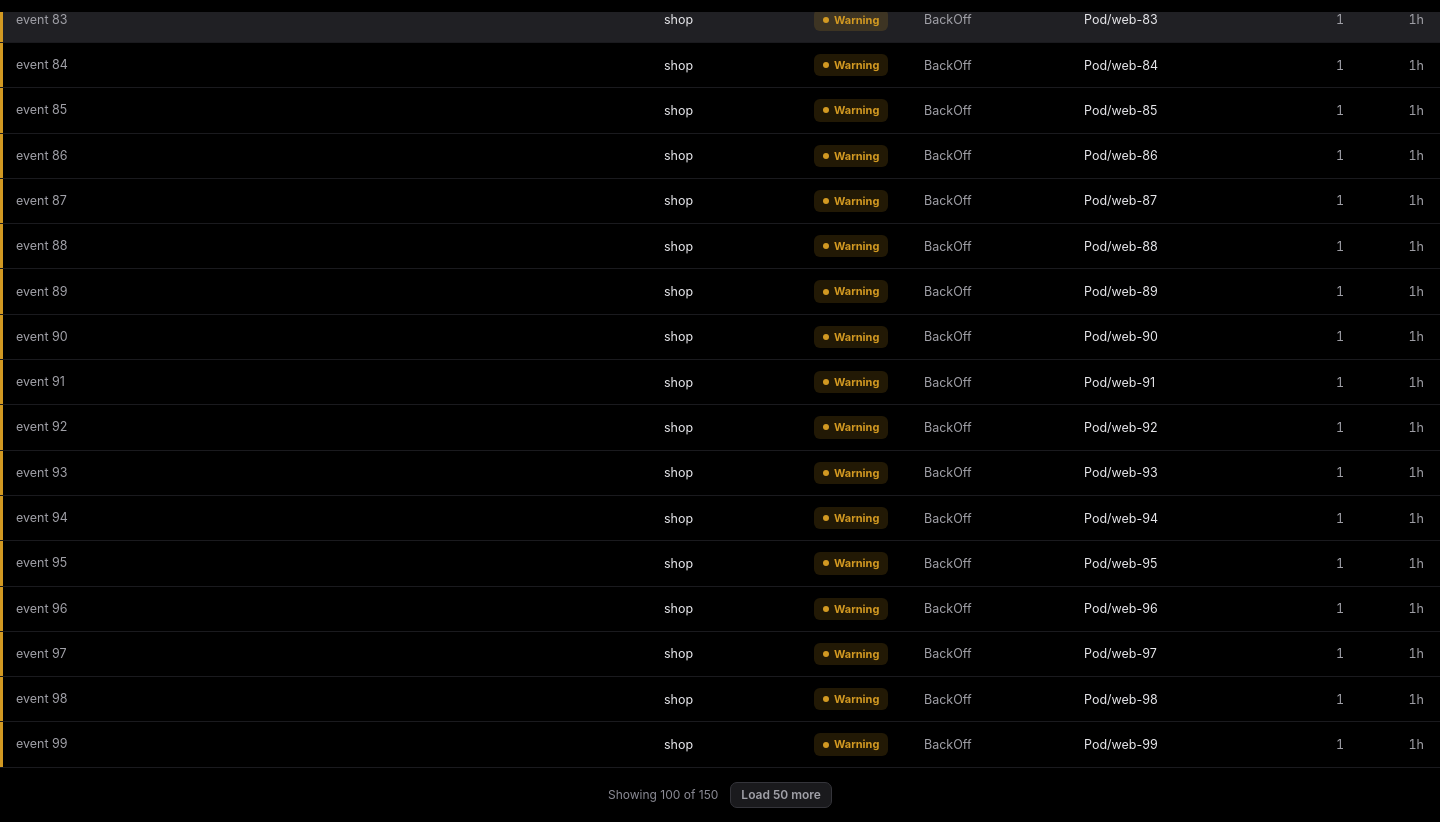
Test: Events filters › "Load more" fetches the next page and appends it
Expected: the text "Showing 100 of 150" is shown, [608, 787, 718, 802]
Click the button "Load 50 more".
click(781, 795)  # box [730, 782, 832, 808]
(page scrolled)
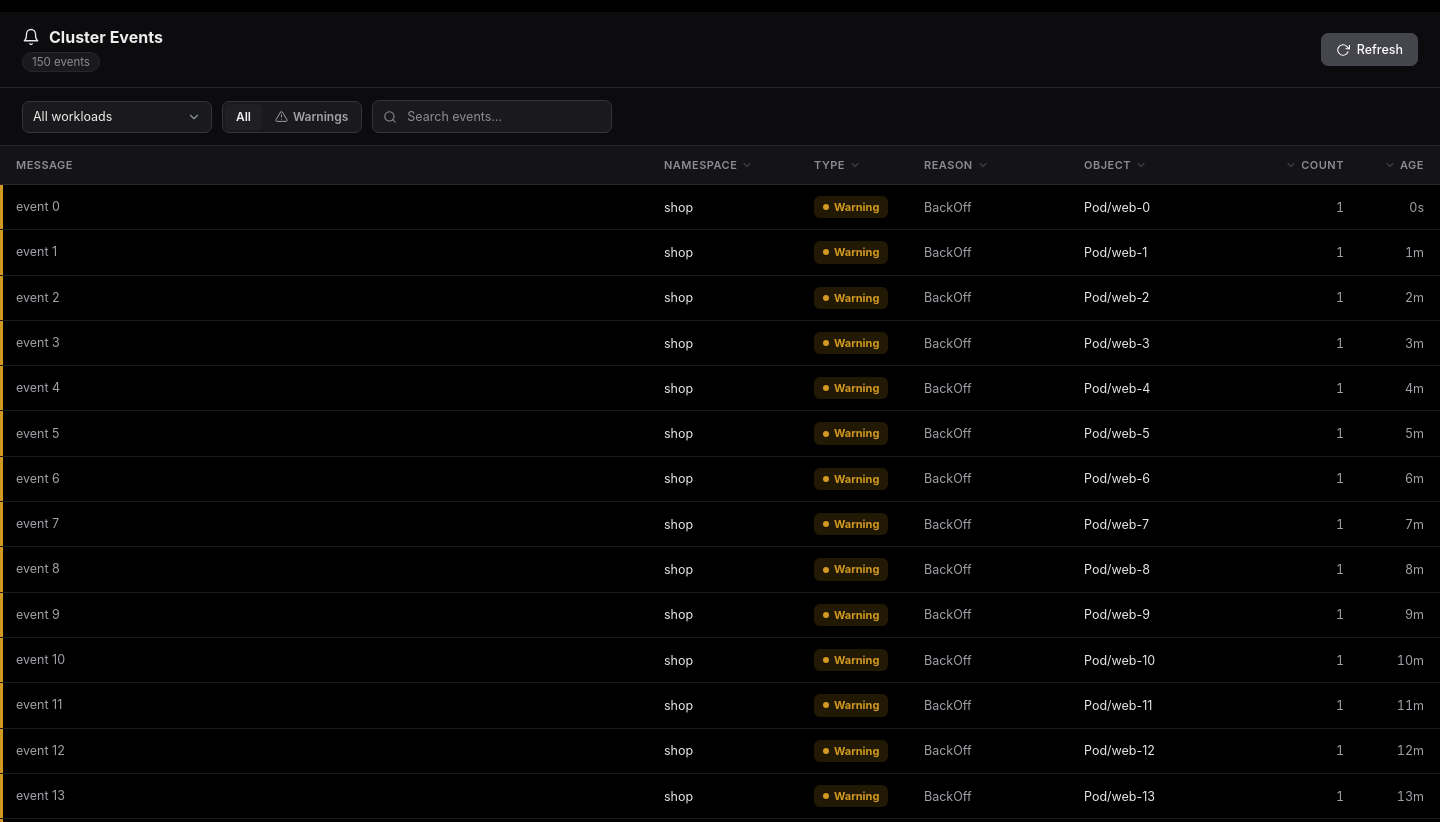
Expected: the text "150 events" is shown, [22, 52, 100, 72]
Result: the text "Showing" is gone
